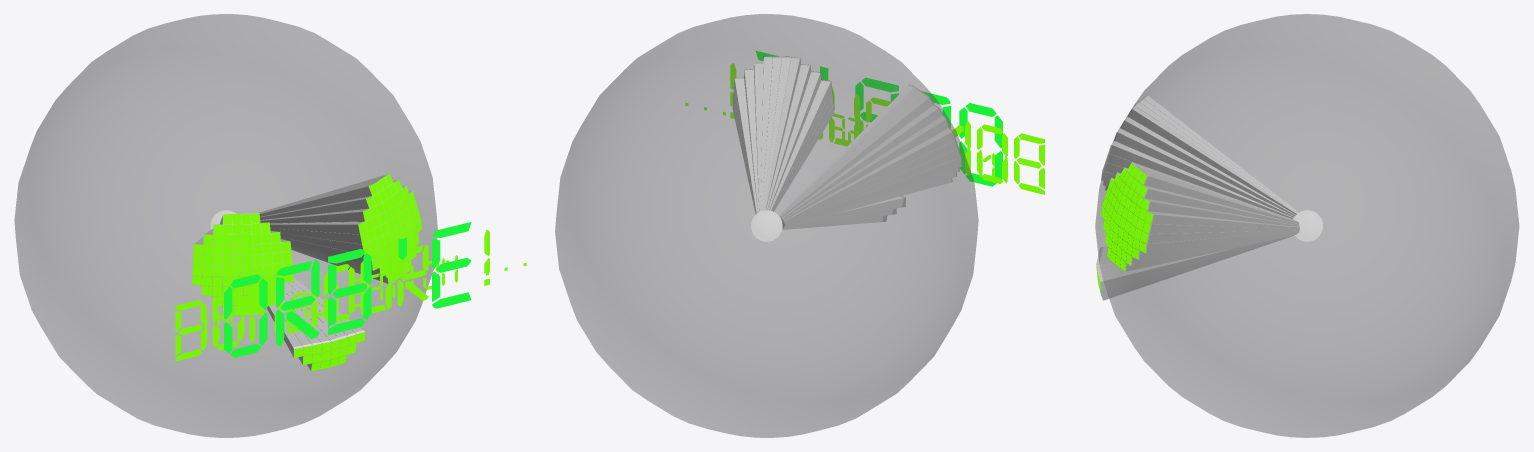
File: orbe2.glb
The picture shows the model from 3 angles, left to right: view 1: azimuth 30°, elevation 25°; view 2: azimuth 150°, elevation 25°; view 3: azimuth 270°, elevation 25°; orthographic projection.
Visible parts, largest first — view 1: orbe, visage, nom, bienvenu!, init!; view 2: orbe, visage, bienvenu!, nom, core, init!; view 3: orbe, visage, core.
Boxes of the visible parts, left/top/right/bottom form: orbe: left=14, top=14, right=437, bottom=437; visage: left=192, top=174, right=421, bottom=371; nom: left=224, top=222, right=471, bottom=357; bienvenu!: left=175, top=230, right=489, bottom=361; init!: left=204, top=255, right=526, bottom=341; orbe: left=555, top=14, right=978, bottom=437; visage: left=732, top=56, right=962, bottom=229; bienvenu!: left=730, top=63, right=1044, bottom=194; nom: left=755, top=51, right=1002, bottom=186; core: left=751, top=210, right=782, bottom=241; init!: left=685, top=102, right=1007, bottom=183; orbe: left=1095, top=14, right=1519, bottom=437; visage: left=1096, top=95, right=1299, bottom=300; core: left=1293, top=210, right=1322, bottom=241.
Bounding box in the file's own units: 2.03 × 1.99 × 2.09.
